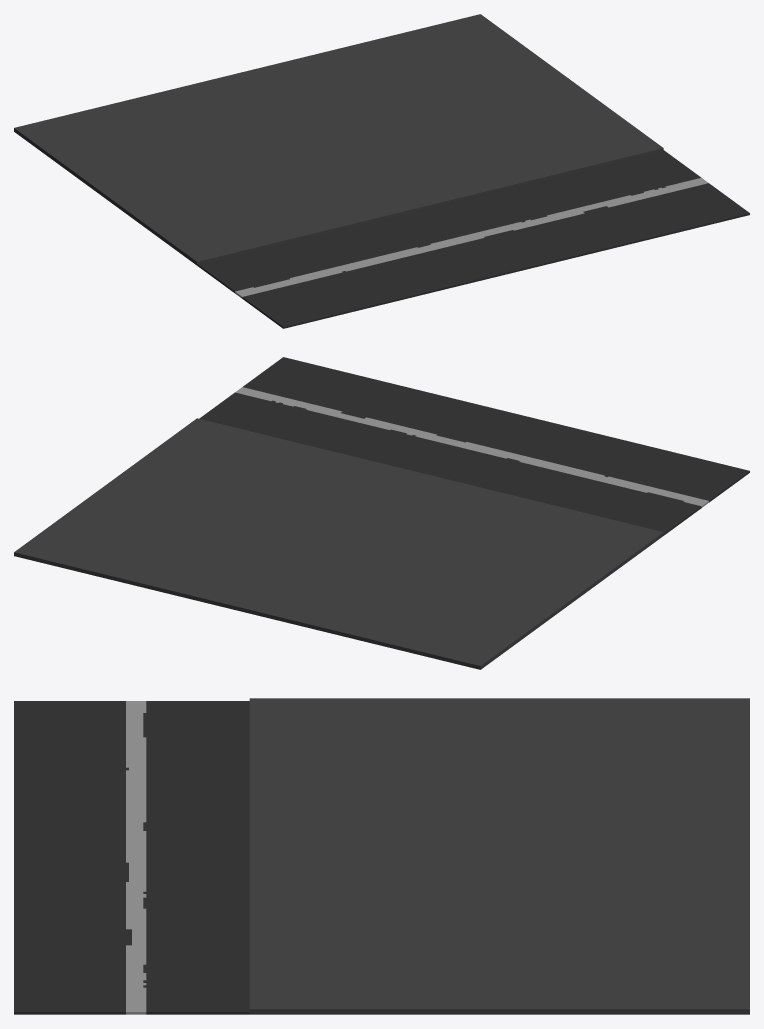
File: drzewko-58.obj
3 renders of one model, top to bottom at view 1: azimuth 30°, elevation 25°; view 2: azimuth 150°, elevation 25°; view 3: azimuth 270°, elevation 25°, orthographic. The views are drawn at different scales.
Bounding box in the file's own units: 25.6 × 0.2 × 25.6.
1 material, 1 textured.
